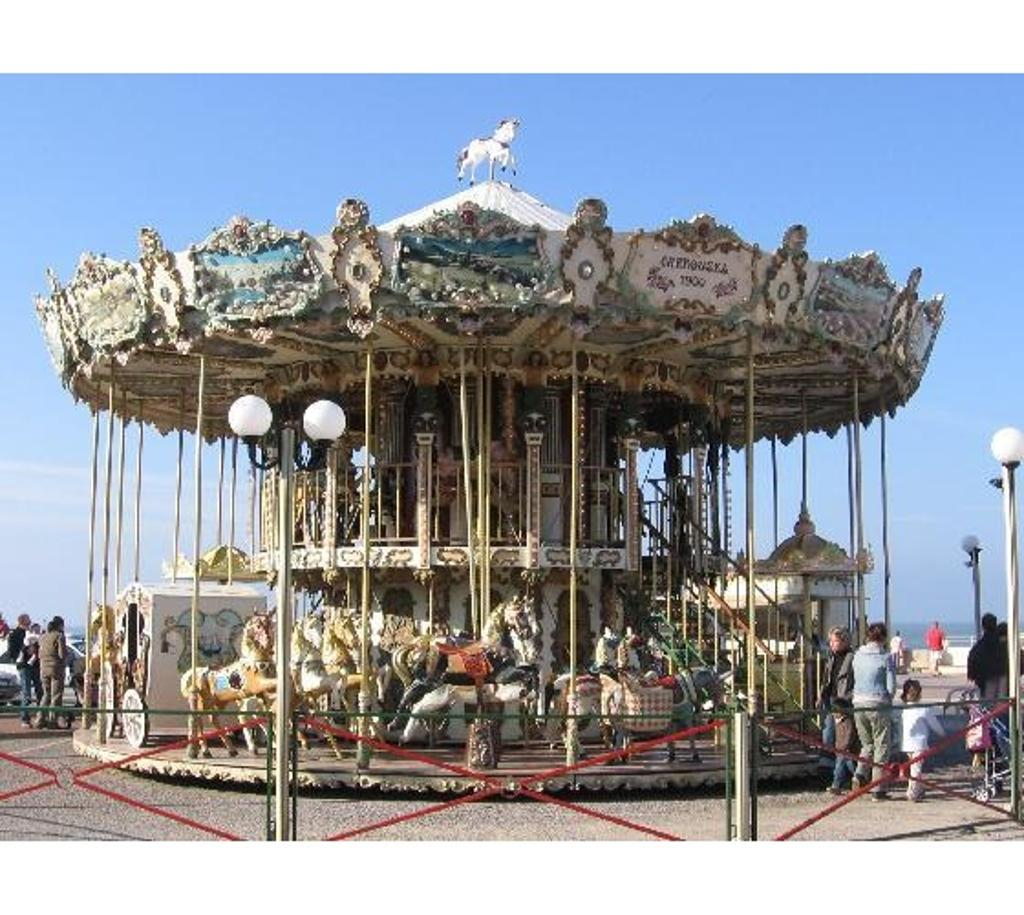face: (829, 634, 841, 650), (831, 706, 842, 718), (22, 615, 30, 624)
